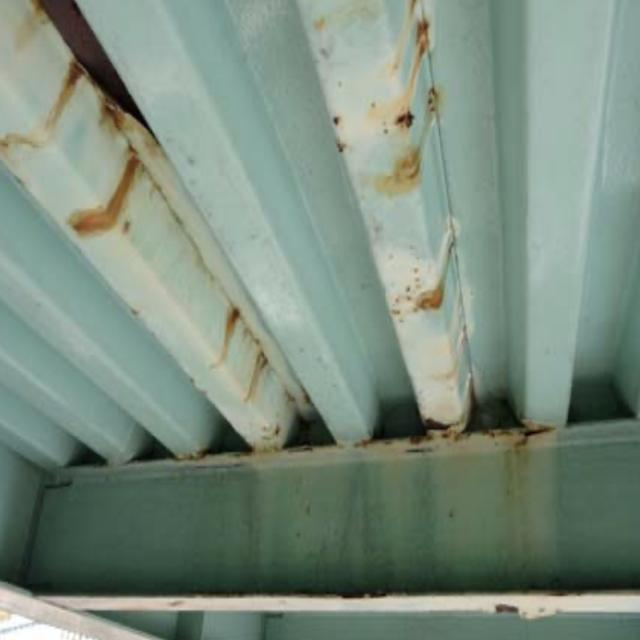corrosion: (30, 37, 286, 447), (370, 41, 499, 442)
